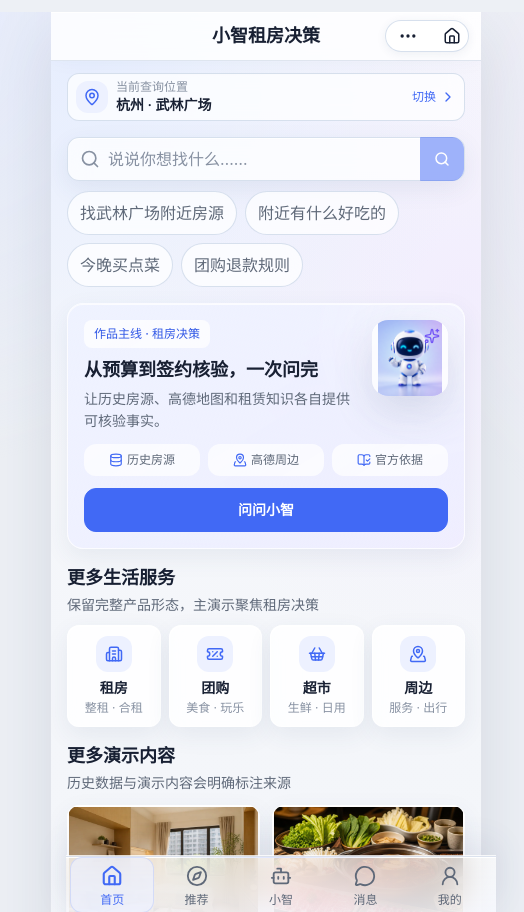
Scenario: HomePage › submits quick prompts through the validated chat route
Click the button "找武林广场附近房源": [152, 213] box [67, 191, 237, 235]
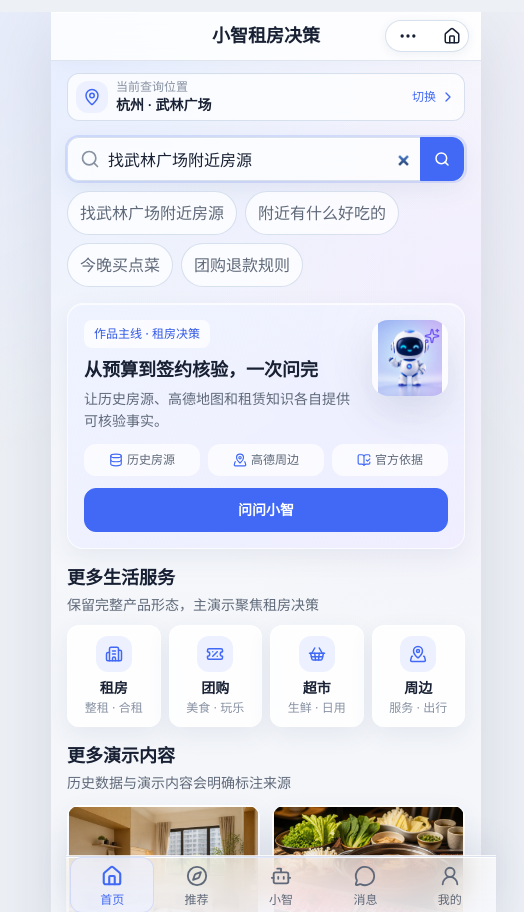
Now the search field holds "找武林广场附近房源", box [108, 139, 412, 179]
